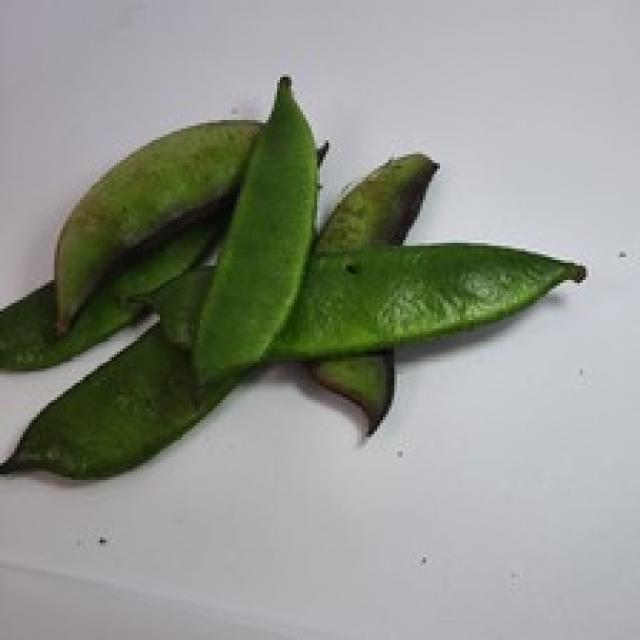Bean: (0, 74, 586, 480), (51, 117, 263, 337), (188, 71, 323, 386)
